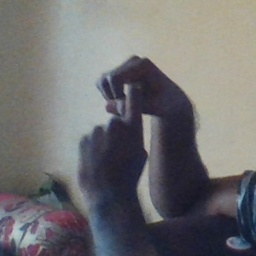Q: (73, 51, 172, 180)
